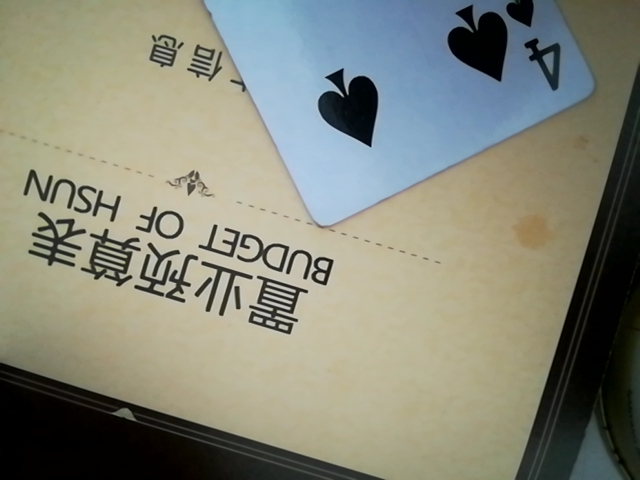ht 4: (114, 1, 599, 228)
